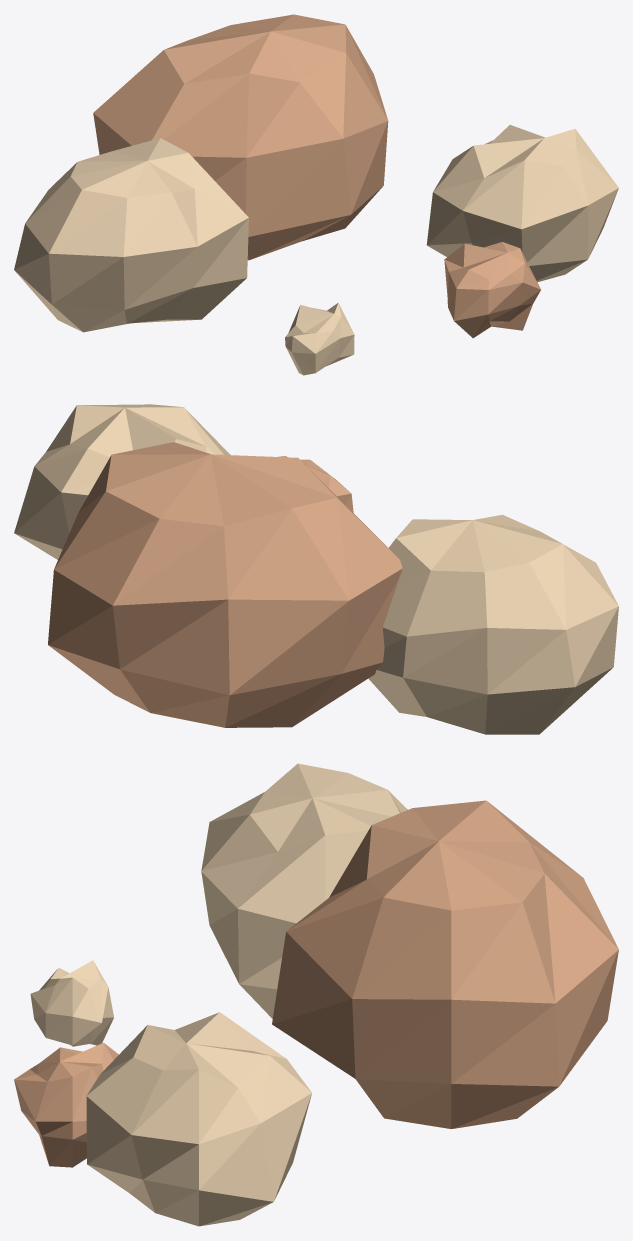
The picture shows the model from 3 angles, top to bottom: view 1: azimuth 30°, elevation 25°; view 2: azimuth 150°, elevation 25°; view 3: azimuth 270°, elevation 25°; orthographic projection. The views are drawn at different scales.
Size of the model in its own units: 6.17 by 2.4 by 4.79.
